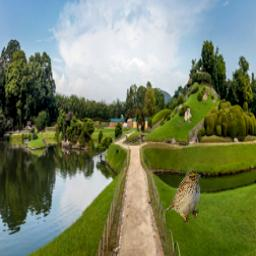Sparrow: (165, 169, 202, 224)
